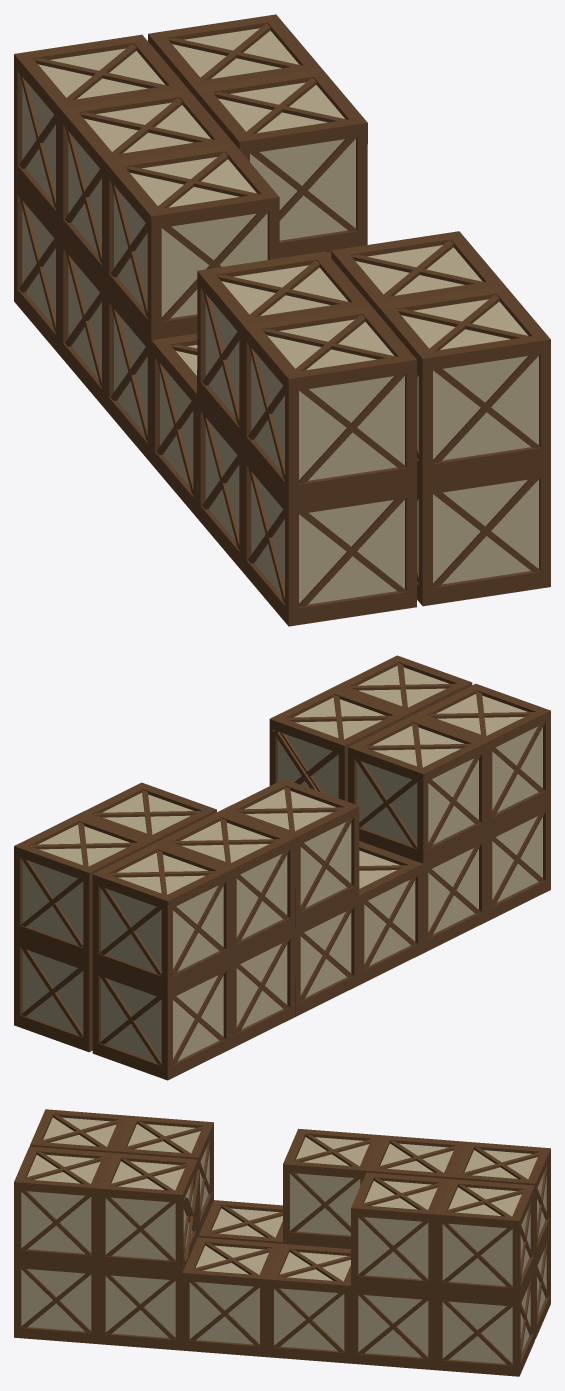
Rendered from Wooden_Boxes__007.fbx.
3 renders of one model, top to bottom at view 1: azimuth 30°, elevation 25°; view 2: azimuth 150°, elevation 25°; view 3: azimuth 270°, elevation 25°, orthographic. The views are drawn at different scales.
Visible parts, largest first — view 1: Wooden box-7; view 2: Wooden box-7; view 3: Wooden box-7.
Part boxes in pixels (<box>): Wooden box-7: <box>14,14,550,626</box>; Wooden box-7: <box>14,655,550,1080</box>; Wooden box-7: <box>14,1109,550,1376</box>.
Bounding box in the file's own units: 2.89 × 1.88 × 5.87.
